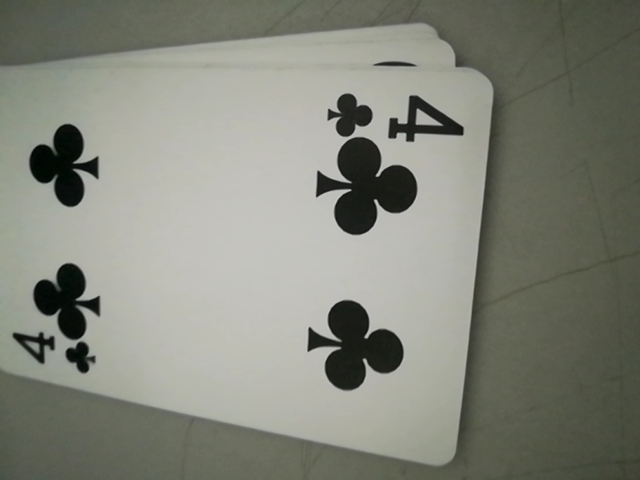mh 4: (325, 78, 461, 145), (7, 329, 102, 380)
